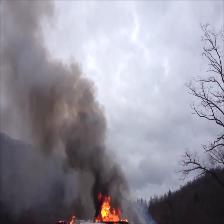fire: (100, 202, 118, 220)
smoke: (37, 73, 89, 143), (69, 146, 107, 172), (98, 177, 121, 195)
